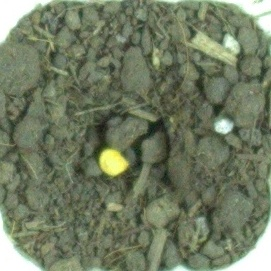chilli seed: (97, 147, 130, 176)
